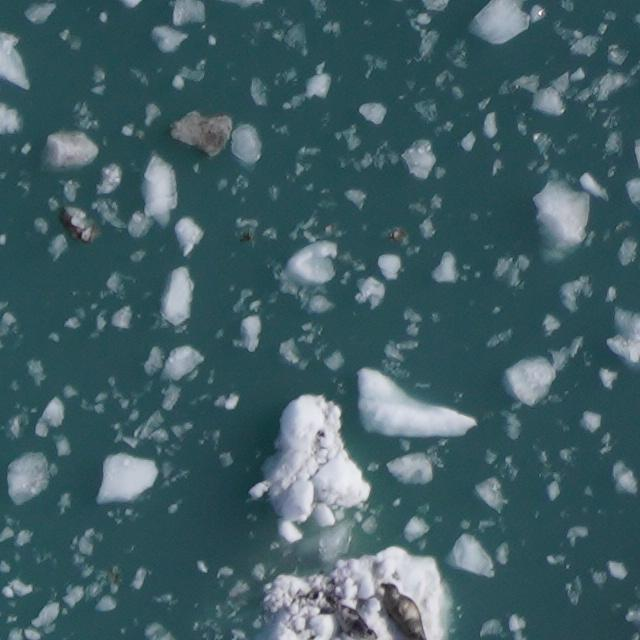seal: (376, 582, 427, 639)
